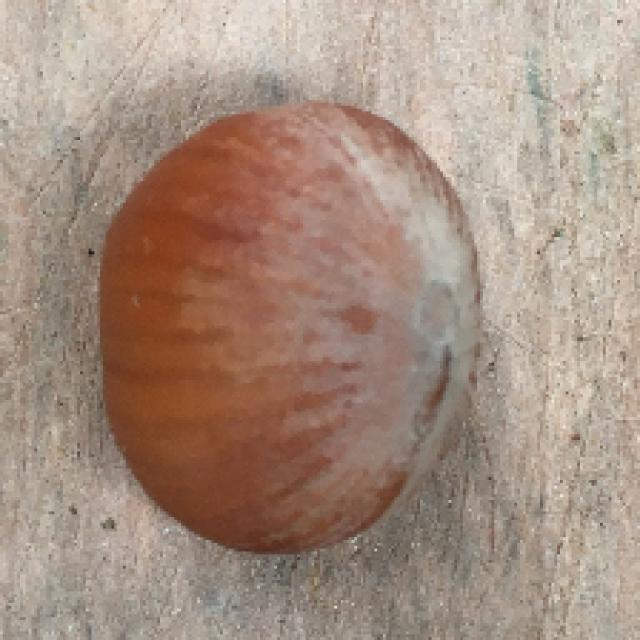QualityHazelnut: (88, 103, 486, 557)
